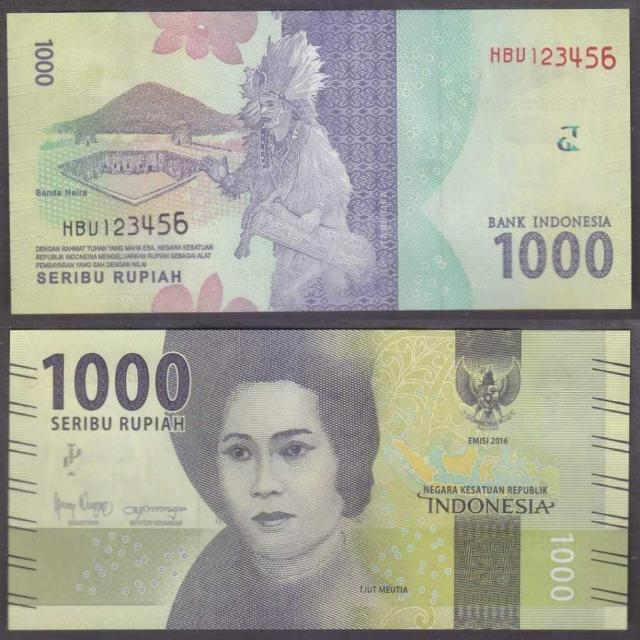seribu rupiah: (8, 327, 630, 634), (3, 11, 634, 310)
